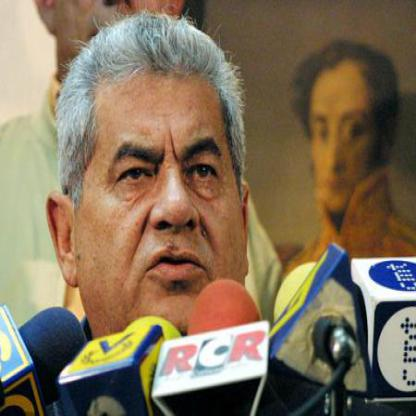face: (67, 20, 250, 360), (303, 51, 381, 215)
